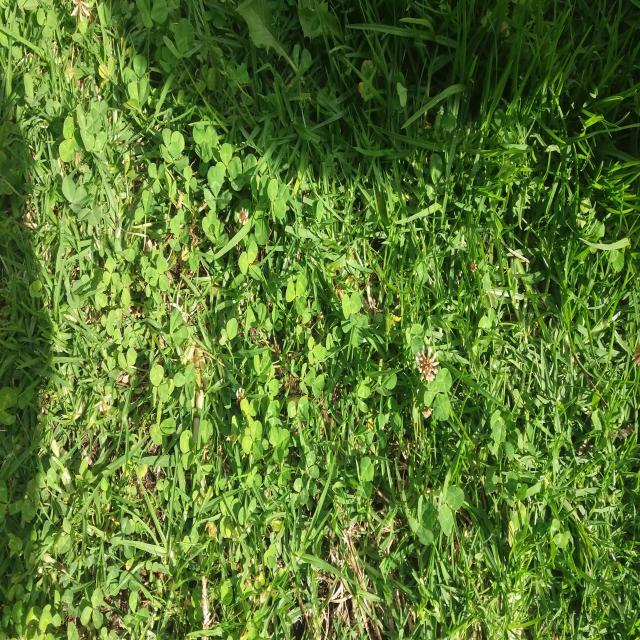Four Leaf Clover: (411, 494, 435, 546), (574, 376, 601, 416)
